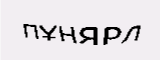А: (88, 11, 107, 39)
Д: (25, 10, 47, 41)
Л: (49, 10, 71, 39)
Т: (72, 7, 90, 36)
Я: (103, 10, 129, 45)
